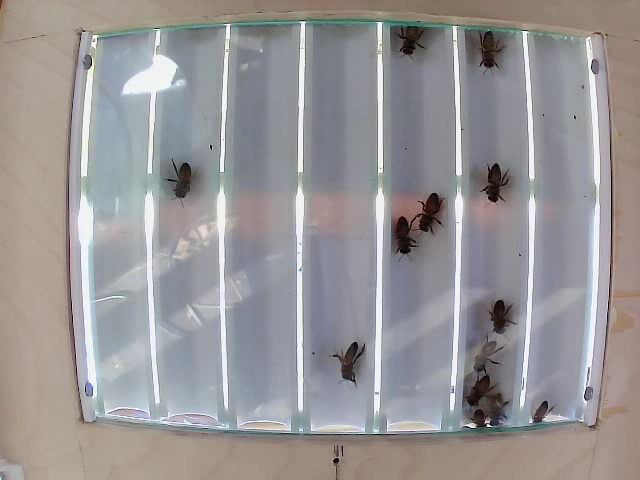bee: (473, 163, 513, 214), (168, 159, 211, 199), (469, 32, 502, 82), (388, 26, 432, 60), (338, 334, 366, 387), (381, 214, 416, 256), (482, 297, 519, 336), (470, 334, 510, 370), (416, 188, 446, 235), (459, 365, 492, 404), (524, 396, 550, 438)
